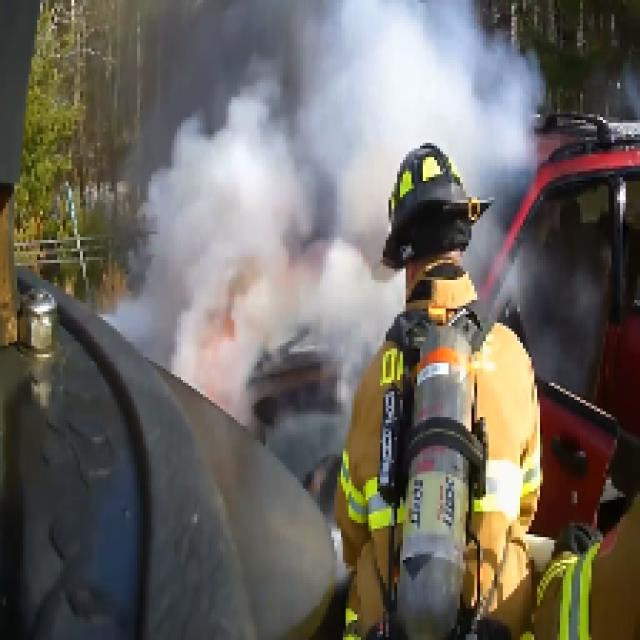smoke: (332, 18, 508, 266), (166, 135, 318, 366)
